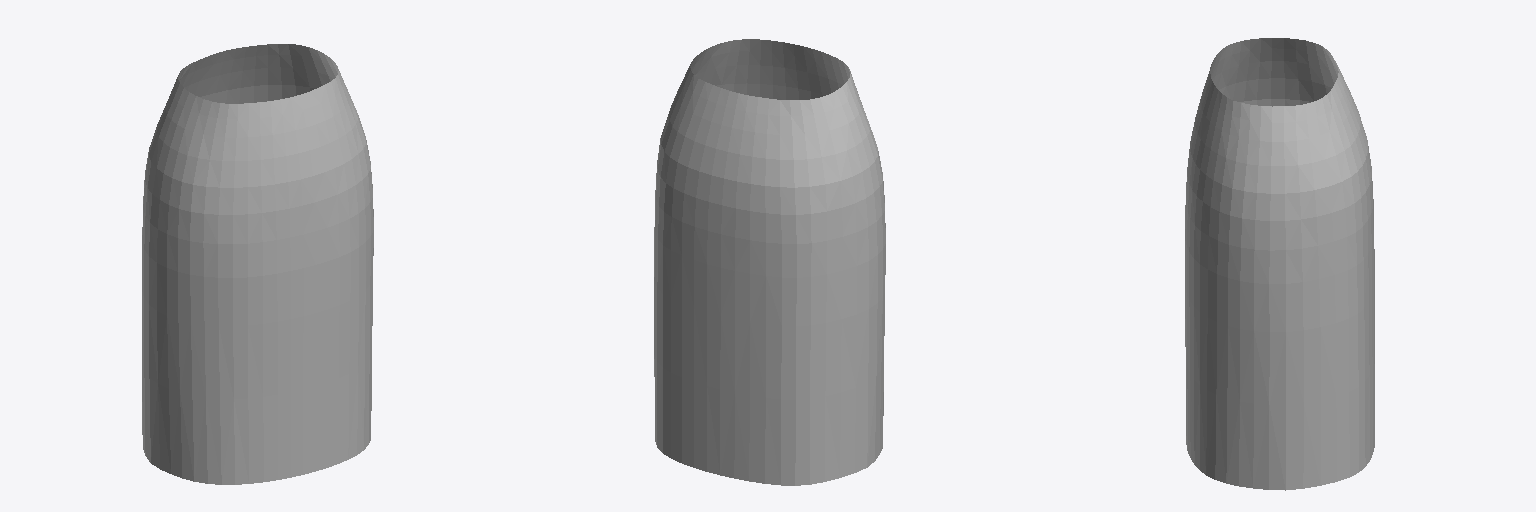
Rendered from 8_skirtlongnarrow.obj.
The picture shows the model from 3 angles: view 1: azimuth 30°, elevation 25°; view 2: azimuth 150°, elevation 25°; view 3: azimuth 270°, elevation 25°; orthographic projection.
Visible parts, largest first — view 1: skirtfront, skirtback, skirtbackleft, skirtbackright; view 2: skirtback, skirtbackleft, skirtfront, skirtbackright; view 3: skirtfront, skirtbackright, skirtback, skirtbackleft.
Part boxes in pixels (x1,y1,x2,y2): skirtfront: (149, 54, 373, 484); skirtback: (183, 44, 267, 103); skirtbackleft: (142, 63, 192, 462); skirtbackright: (268, 44, 335, 100); skirtback: (671, 82, 781, 484); skirtbackleft: (780, 91, 868, 485); skirtfront: (690, 39, 885, 467); skirtbackright: (654, 57, 704, 457); skirtfront: (1185, 38, 1285, 490); skirtbackright: (1284, 91, 1365, 489); skirtback: (1331, 56, 1374, 465); skirtbackleft: (1284, 38, 1338, 105).
Bounding box in the file's own units: 15.33 × 25.88 × 12.1.